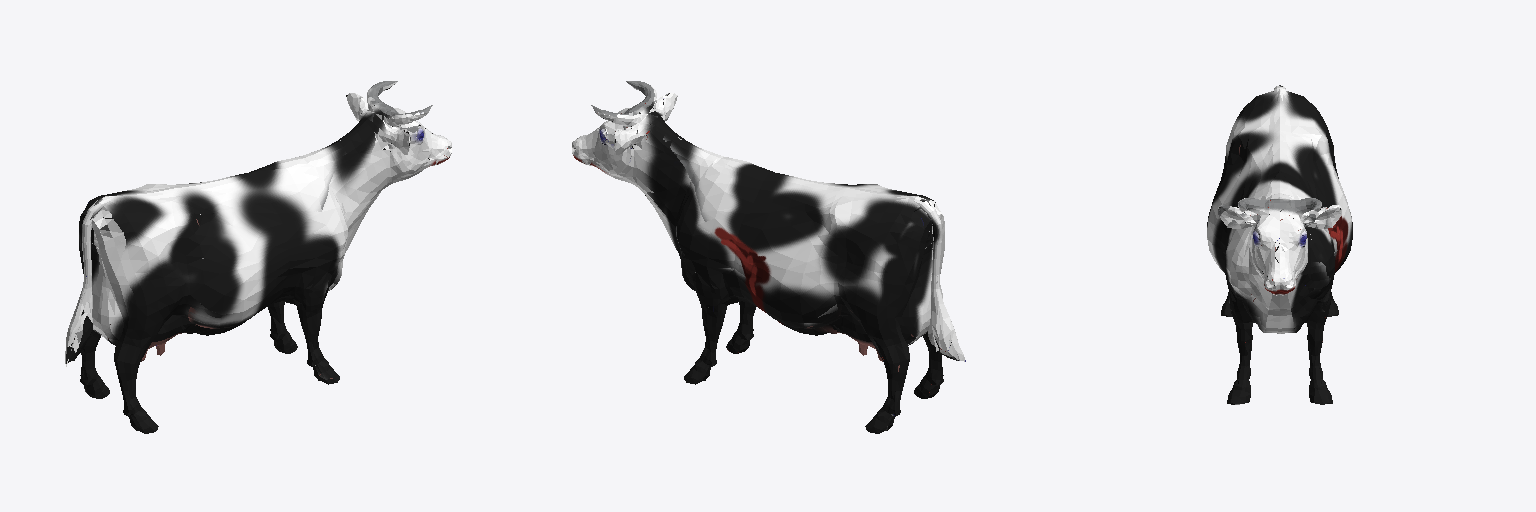
3 renders of one model, left to right at view 1: azimuth 30°, elevation 25°; view 2: azimuth 150°, elevation 25°; view 3: azimuth 270°, elevation 25°, orthographic.
Visible parts, largest first — view 1: cow; view 2: cow; view 3: cow.
Boxes of the visible parts, x1,y1,x2,y2 form: cow: [65, 81, 451, 433]; cow: [572, 81, 965, 433]; cow: [1207, 85, 1352, 404].
Bounding box in the file's own units: 10.44 × 6.4 × 3.4.
Materials: 1 (1 with a texture image).